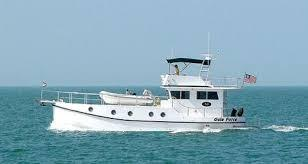Ship: (42, 55, 257, 132)
